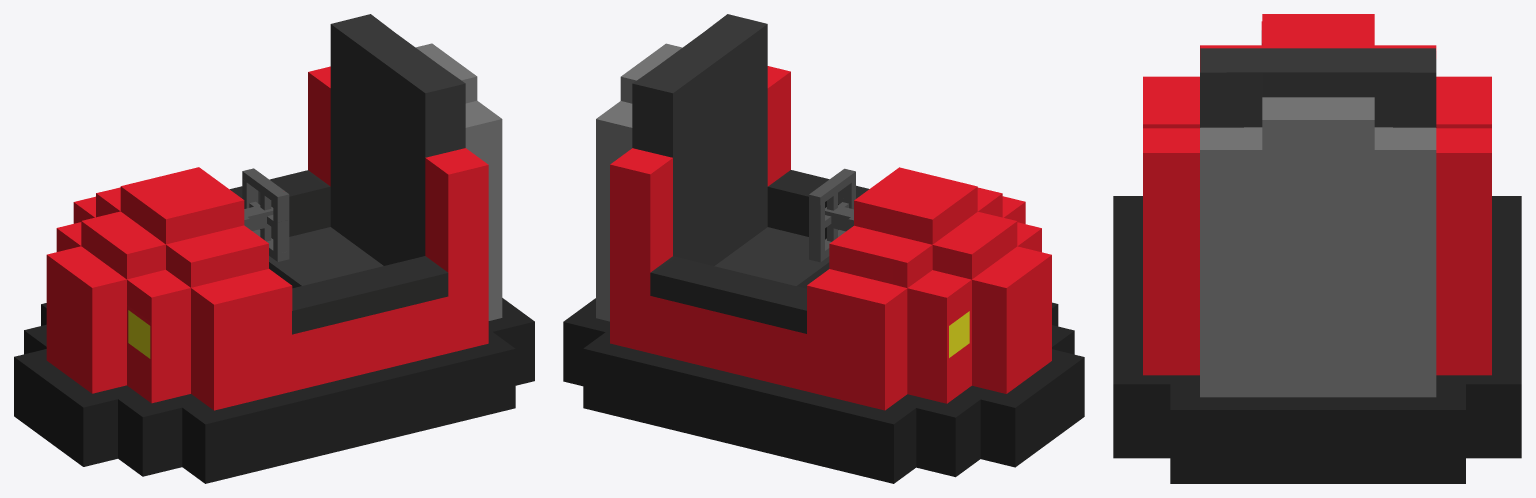
File: 빨간 범퍼카.fbx
The picture shows the model from 3 angles, left to right: view 1: azimuth 30°, elevation 25°; view 2: azimuth 150°, elevation 25°; view 3: azimuth 270°, elevation 25°; orthographic projection. The views are drawn at different scales.
Visible parts, largest first — view 1: Box003; view 2: Box003; view 3: Box003.
Part boxes in pixels (x1,y1,x2,y2): Box003: (14, 14, 534, 483); Box003: (563, 14, 1084, 483); Box003: (1113, 14, 1521, 483).
Bounding box in the file's own units: 30 × 20.34 × 20.
1 material, 1 textured.
